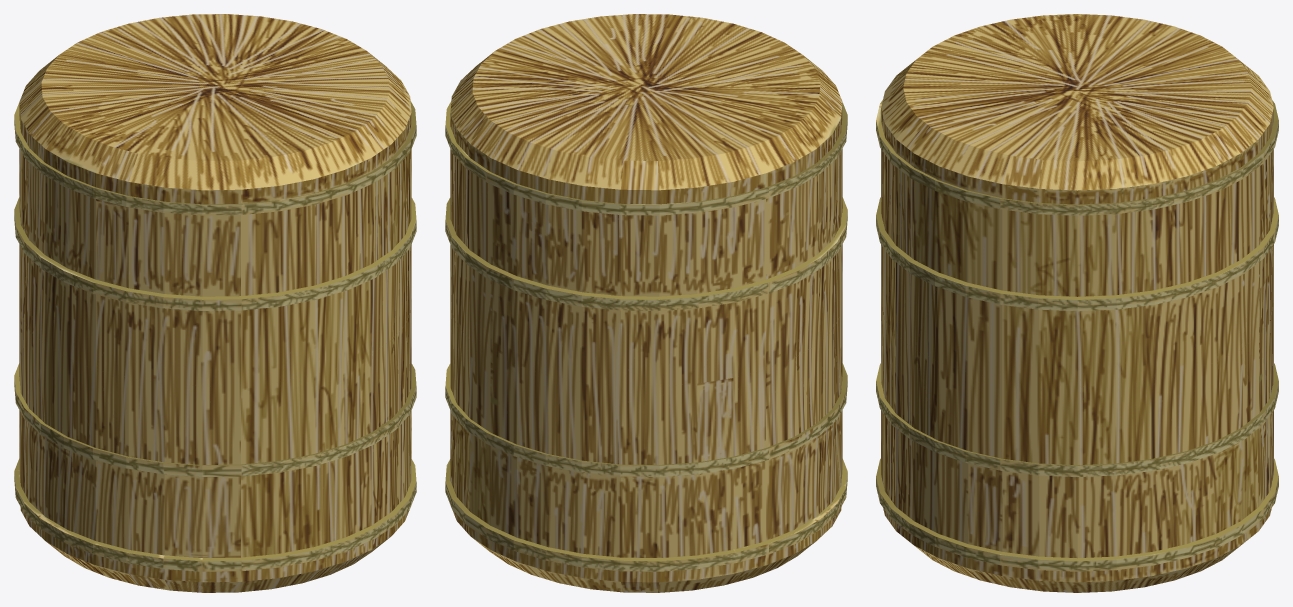
File: tawara.fbx
3 views of the same model, side by side, from view 1: azimuth 30°, elevation 25°; view 2: azimuth 150°, elevation 25°; view 3: azimuth 270°, elevation 25° (orthographic).
Parts seen in each view (by area): view 1: Cylinder; view 2: Cylinder; view 3: Cylinder.
Boxes of the visible parts, left/top/right/bottom form: Cylinder: left=14, top=14, right=416, bottom=592; Cylinder: left=445, top=14, right=847, bottom=592; Cylinder: left=876, top=14, right=1278, bottom=592.
Bounding box in the file's own units: 205 × 243 × 205.
Materials: 1 (1 with a texture image).
